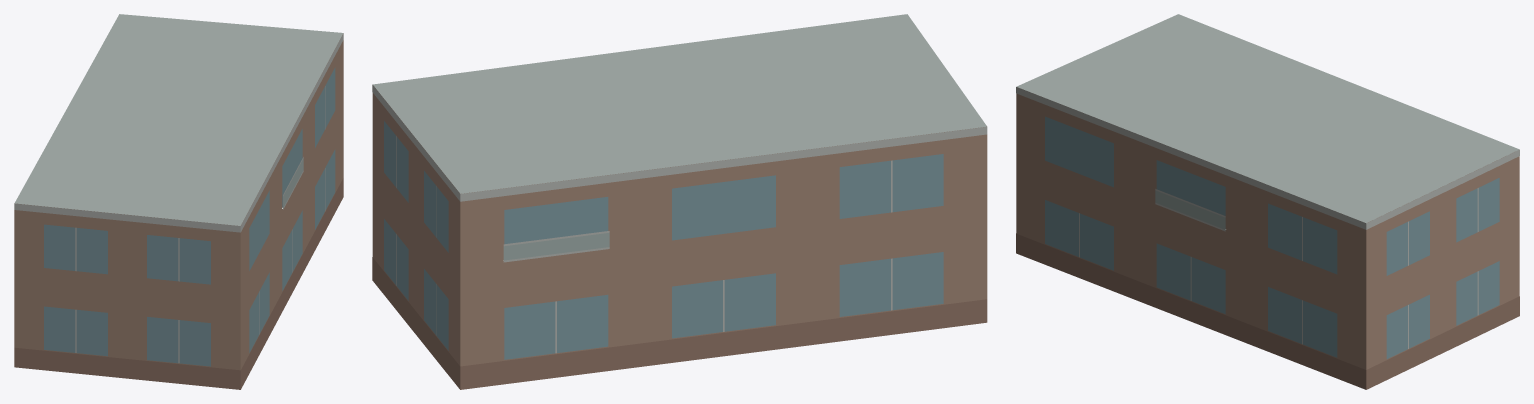
Rendered from survey-upis-32578677.glb.
3 views of the same model, side by side, from view 1: azimuth 30°, elevation 25°; view 2: azimuth 150°, elevation 25°; view 3: azimuth 270°, elevation 25° (orthographic). The views are drawn at different scales.
Parts seen in each view (by area): view 1: survey-upis-32578677.tmp; view 2: survey-upis-32578677.tmp; view 3: survey-upis-32578677.tmp.
Boxes of the visible parts, left/top/right/bottom form: survey-upis-32578677.tmp: left=14, top=14, right=343, bottom=389; survey-upis-32578677.tmp: left=372, top=14, right=987, bottom=389; survey-upis-32578677.tmp: left=1016, top=14, right=1519, bottom=389.
Size of the model in its own units: 16.43 by 6.1 by 16.71.
